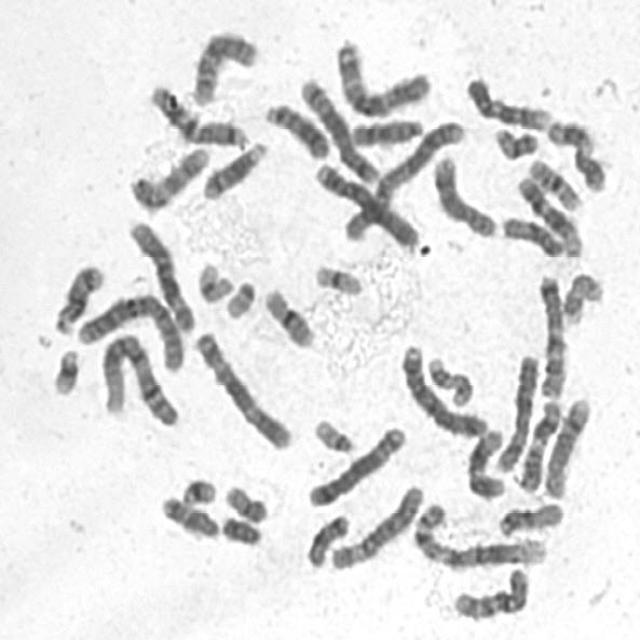A1: (406, 496, 550, 572), (94, 326, 182, 429)
A2: (337, 111, 468, 243), (70, 286, 188, 374)
A3: (186, 322, 294, 451), (329, 30, 434, 120)
B4: (308, 155, 423, 251), (395, 336, 490, 439)
B5: (294, 68, 382, 186), (301, 418, 408, 508)
C10: (184, 29, 266, 104), (447, 558, 533, 623)
C11: (540, 111, 610, 194), (512, 392, 566, 495)
C12: (512, 167, 586, 260), (461, 419, 508, 501)
C6: (324, 475, 426, 573), (121, 211, 197, 335)
C7: (143, 77, 250, 150), (531, 266, 569, 400)
C8: (426, 147, 500, 239), (538, 389, 594, 501)
C9: (123, 138, 213, 213), (460, 68, 555, 133)
D13: (258, 95, 332, 161), (344, 110, 426, 148)
D14: (196, 133, 271, 202), (46, 255, 107, 336)
D15: (495, 208, 568, 258), (492, 495, 567, 540)
E16: (257, 279, 317, 350), (521, 151, 585, 212)
E17: (556, 264, 606, 328), (422, 349, 476, 408)
E18: (154, 488, 222, 541), (300, 506, 353, 570)
F19: (307, 256, 366, 297), (190, 255, 236, 305)
F20: (218, 476, 270, 526), (488, 118, 541, 161)
G21: (45, 339, 82, 397), (175, 469, 219, 508)
G22: (306, 411, 358, 455), (218, 272, 258, 321)
X: (490, 346, 543, 474)
Y: (215, 507, 264, 549)
